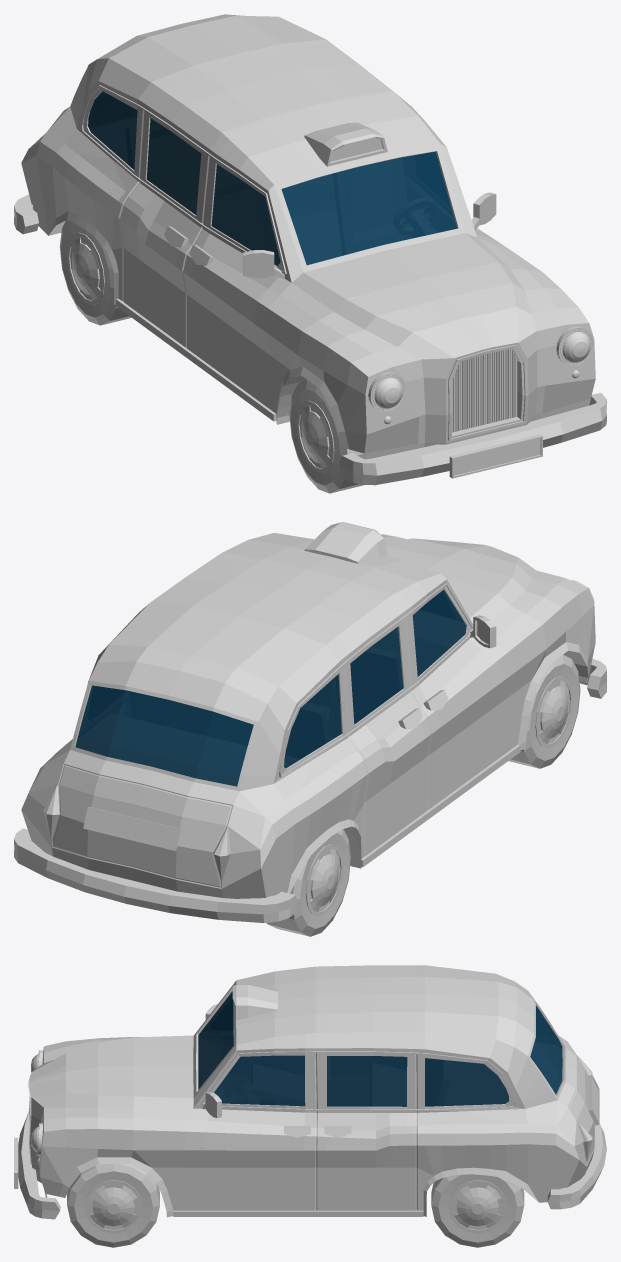
The model's file is taxi_02_seperate_wheels.fbx.
3 renders of one model, top to bottom at view 1: azimuth 30°, elevation 25°; view 2: azimuth 150°, elevation 25°; view 3: azimuth 270°, elevation 25°, orthographic. The views are drawn at different scales.
Visible parts, largest first — view 1: taxi_02, taxi_02_glass, taxi_02_wheel.002, taxi_02_wheel.003; view 2: taxi_02, taxi_02_glass, taxi_02_wheel.002, taxi_02_wheel.003; view 3: taxi_02, taxi_02_glass, taxi_02_wheel, taxi_02_wheel.001.
Part boxes in pixels (x1=…): taxi_02: x1=14, y1=14, x2=606, y2=485; taxi_02_glass: x1=88, y1=91, x2=456, y2=265; taxi_02_wheel.002: x1=289, y1=379, x2=364, y2=493; taxi_02_wheel.003: x1=59, y1=220, x2=131, y2=325; taxi_02: x1=14, y1=522, x2=606, y2=922; taxi_02_glass: x1=75, y1=590, x2=466, y2=786; taxi_02_wheel.002: x1=508, y1=655, x2=580, y2=768; taxi_02_wheel.003: x1=267, y1=829, x2=350, y2=936; taxi_02: x1=14, y1=965, x2=606, y2=1219; taxi_02_glass: x1=198, y1=991, x2=562, y2=1106; taxi_02_wheel: x1=67, y1=1164, x2=159, y2=1247; taxi_02_wheel.001: x1=431, y1=1174, x2=524, y2=1247.
Bounding box in the file's own units: 255 × 238 × 605.
